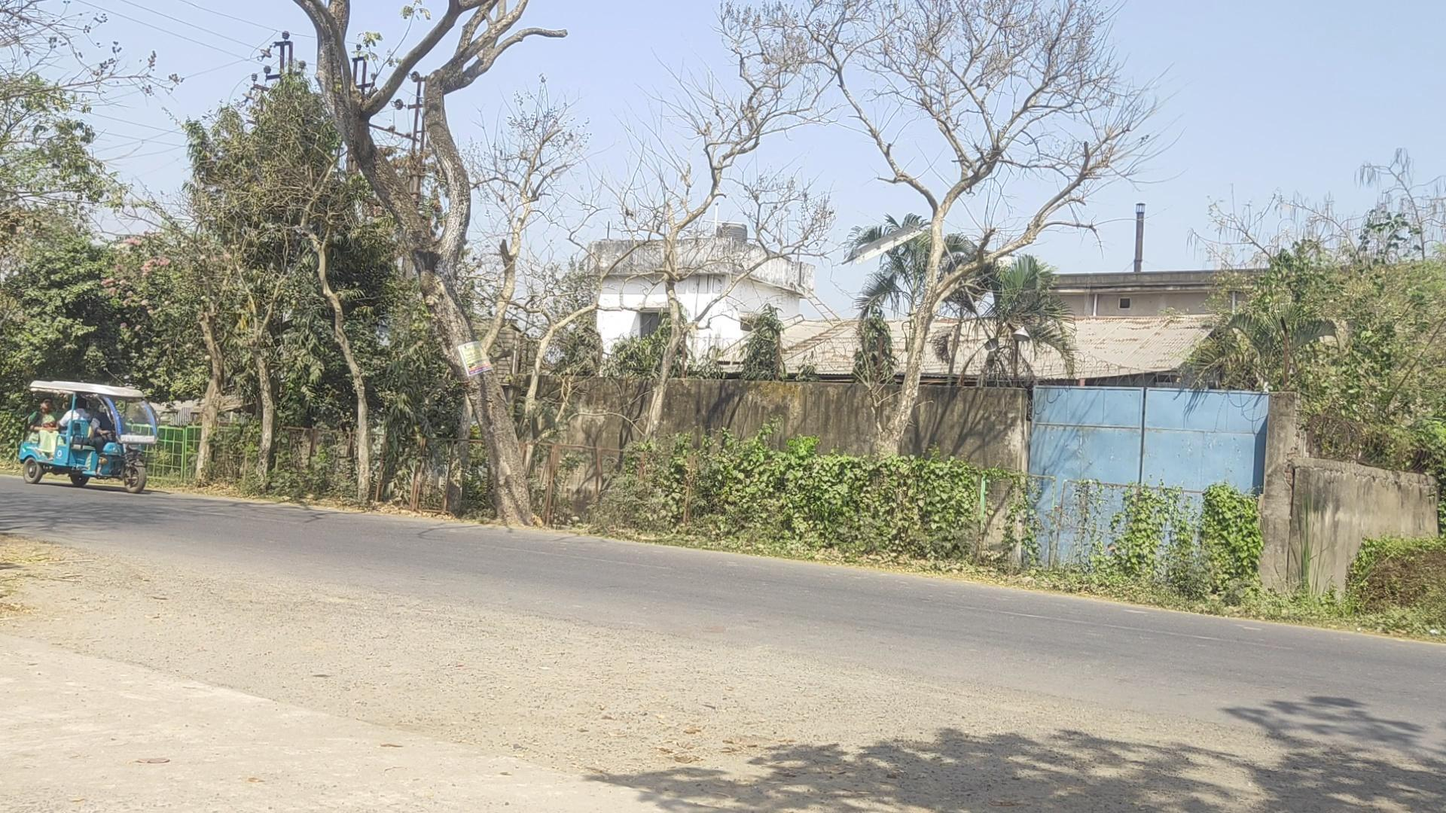Auto: (19, 380, 160, 494)
